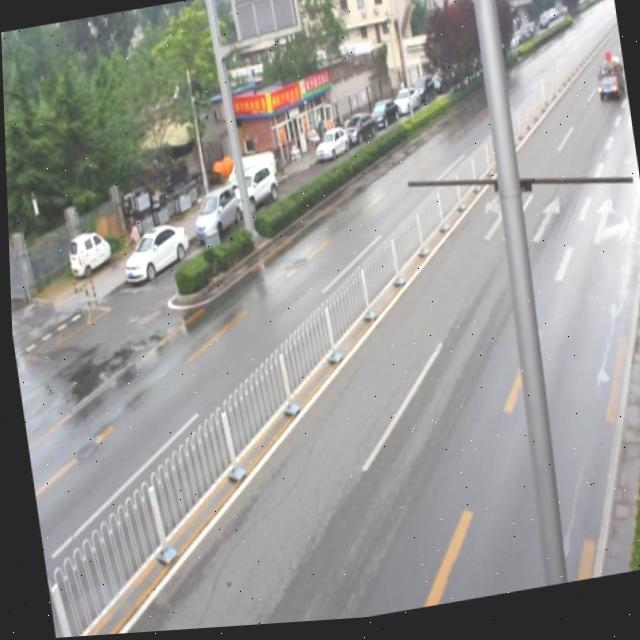bus: (590, 56, 622, 108)
